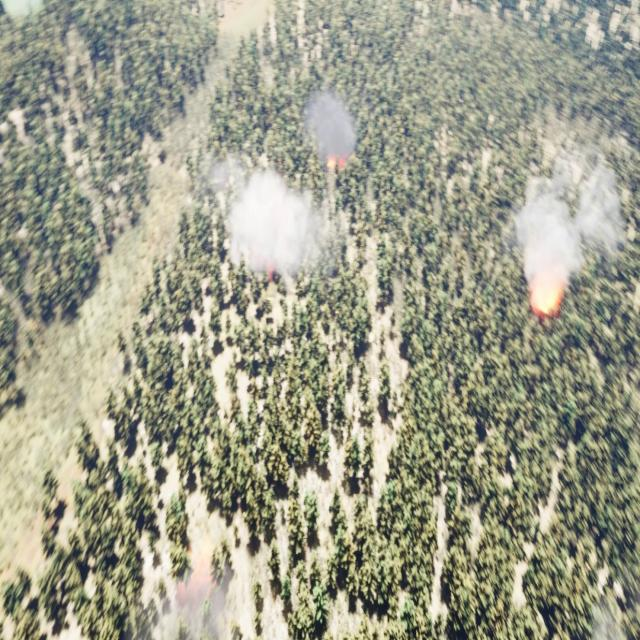fire: (528, 284, 568, 310)
smoke: (197, 148, 340, 286), (512, 159, 622, 297), (148, 553, 242, 639), (303, 93, 356, 176)
